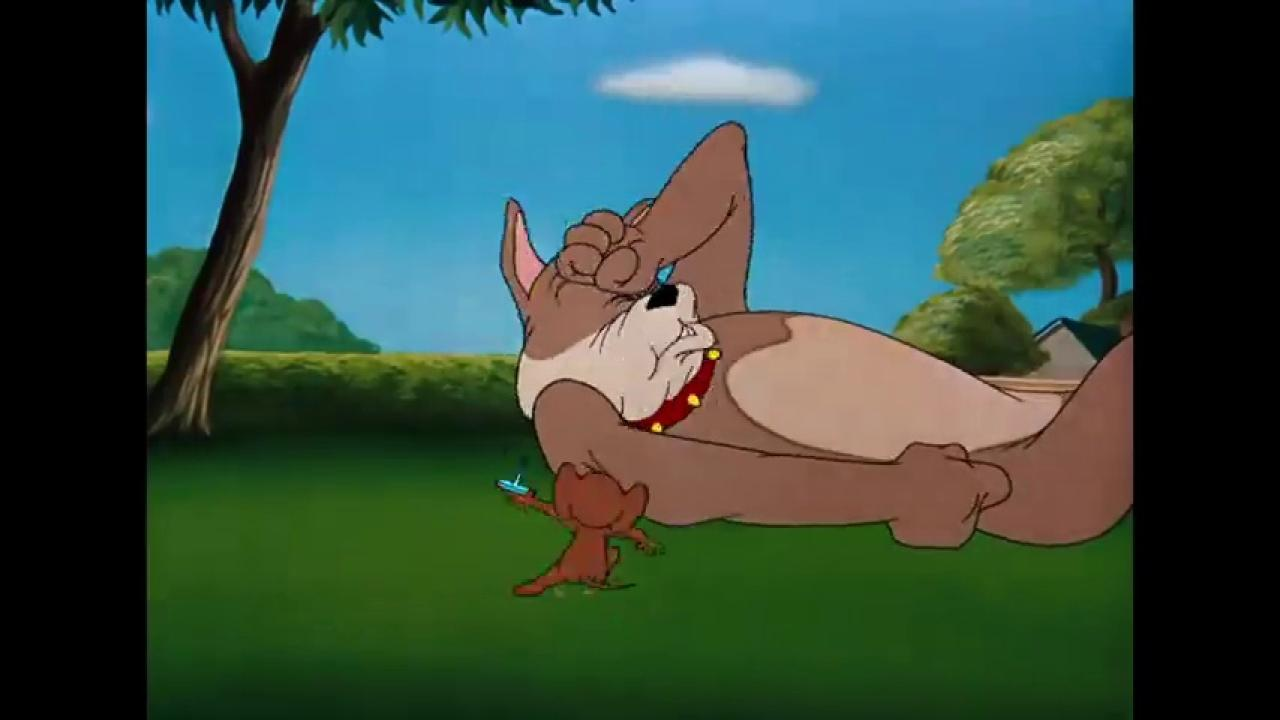Jerry: (502, 448, 664, 601)
